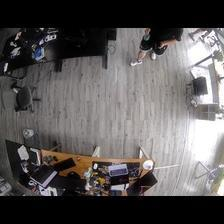normal: (128, 29, 183, 68)
